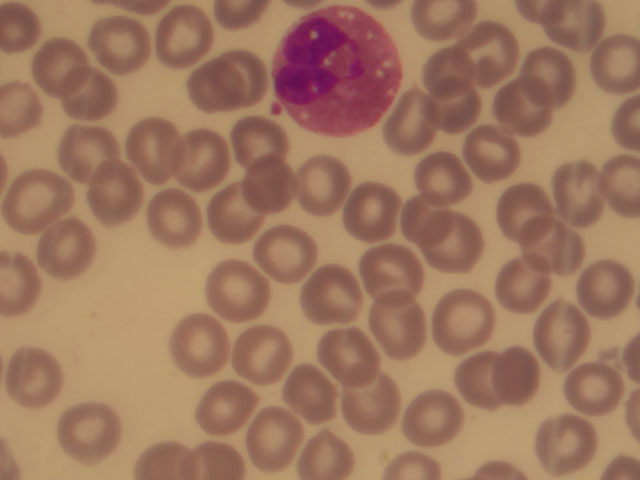RBC: (383, 91, 446, 155), (492, 74, 555, 138), (516, 43, 579, 107), (457, 19, 520, 83), (422, 42, 485, 106), (426, 75, 489, 139), (460, 124, 523, 188), (489, 170, 552, 234), (517, 211, 580, 275), (543, 160, 606, 224), (577, 256, 640, 320), (535, 303, 598, 367), (490, 255, 553, 319), (434, 290, 497, 354), (431, 211, 494, 275), (394, 188, 457, 252), (414, 146, 477, 210), (340, 179, 403, 243), (292, 153, 355, 217), (241, 153, 304, 217), (228, 113, 291, 177), (179, 56, 242, 120), (217, 42, 280, 106), (154, 6, 217, 70), (92, 13, 155, 77), (28, 35, 91, 99), (60, 67, 123, 131), (57, 126, 120, 190), (93, 168, 156, 232), (124, 118, 187, 182), (176, 131, 239, 195), (150, 188, 213, 252), (208, 182, 271, 246), (259, 222, 322, 286), (206, 256, 269, 320), (170, 314, 233, 378), (236, 322, 299, 386), (279, 362, 342, 426), (319, 324, 382, 388), (296, 263, 359, 327), (370, 300, 433, 364), (359, 243, 422, 307), (406, 386, 469, 450), (344, 370, 407, 434), (245, 406, 308, 470), (198, 376, 261, 440), (56, 400, 119, 464), (34, 219, 97, 283), (10, 168, 73, 232), (453, 350, 516, 414), (486, 343, 549, 407), (563, 357, 626, 421), (535, 405, 598, 469), (548, 1, 611, 64), (1, 345, 63, 409), (590, 36, 640, 96)
WBC: (273, 3, 402, 135)
